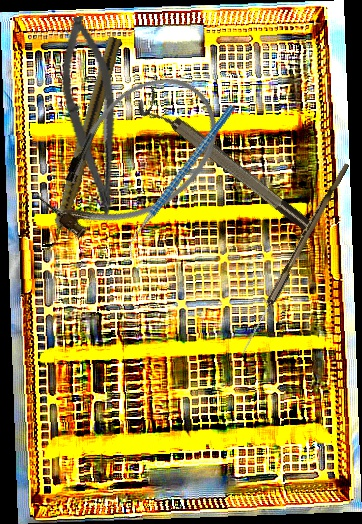Cannula: (20, 54, 243, 265)
Chopper: (89, 103, 273, 261)
Fixation Ring: (133, 86, 318, 244)
Handpiece: (42, 34, 123, 255)
Micro Scissor: (48, 12, 140, 219)
Surgical Spoon: (239, 160, 350, 356)
